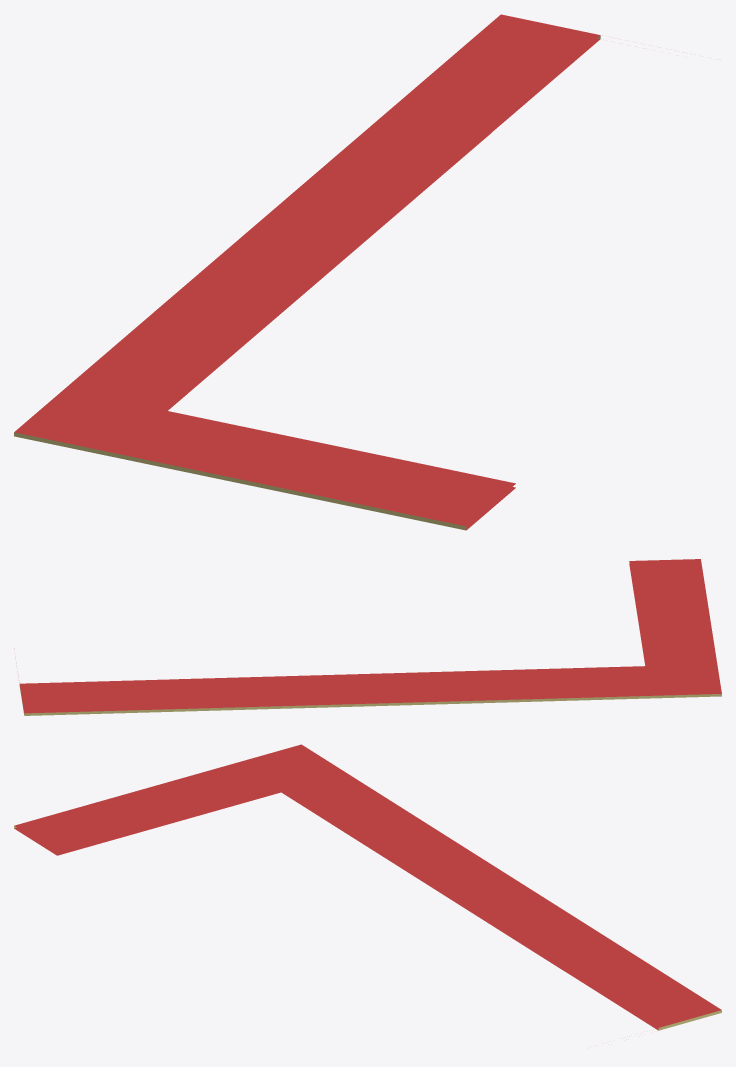
3 views of the same model, one above another, from view 1: azimuth 30°, elevation 25°; view 2: azimuth 150°, elevation 25°; view 3: azimuth 270°, elevation 25° (orthographic). The views are drawn at different scales.
Size of the model in its own units: 23.24 by 22.78 by 0.1.
